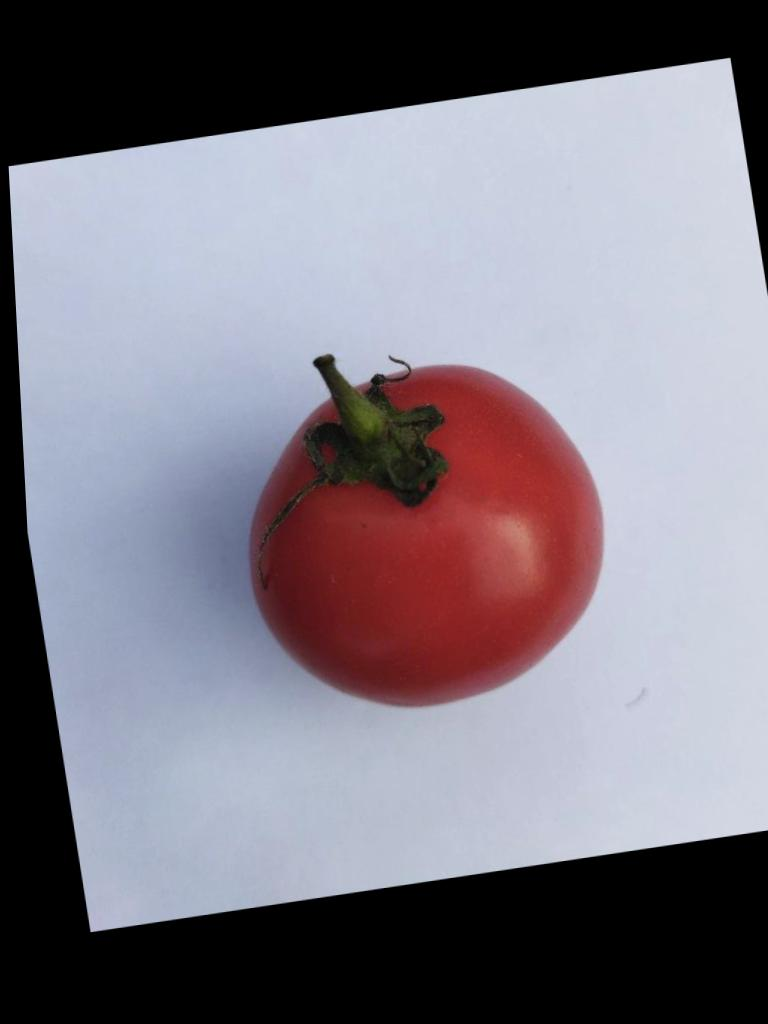tomato: (250, 358, 602, 707)
